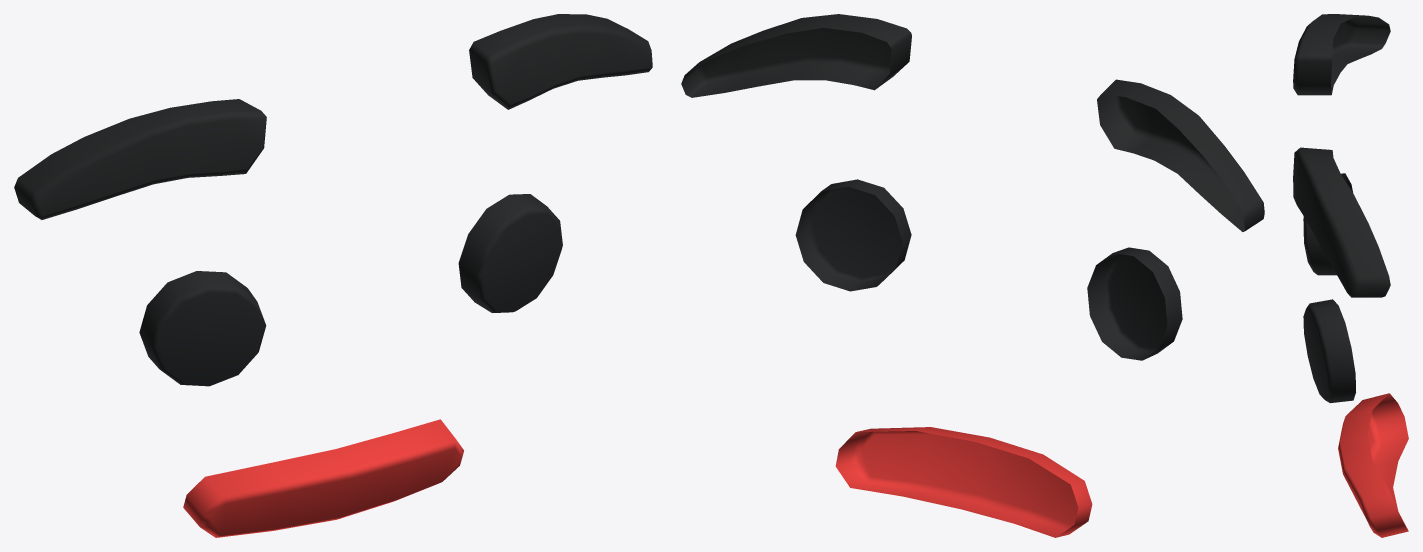
Rendered from Female_Emotion_Neutral_01.glb.
3 renders of one model, left to right at view 1: azimuth 30°, elevation 25°; view 2: azimuth 150°, elevation 25°; view 3: azimuth 270°, elevation 25°, orthographic. The views are drawn at different scales.
Parts seen in each view (by area): view 1: Female_Emotion_Neutral_01; view 2: Female_Emotion_Neutral_01; view 3: Female_Emotion_Neutral_01.
Part boxes in pixels (left/top/right/bottom): Female_Emotion_Neutral_01: left=14, top=14, right=652, bottom=537; Female_Emotion_Neutral_01: left=681, top=14, right=1264, bottom=537; Female_Emotion_Neutral_01: left=1293, top=14, right=1408, bottom=537.
Size of the model in its own units: 0.2564 by 0.1859 by 0.0491.
1 material, 1 textured.
